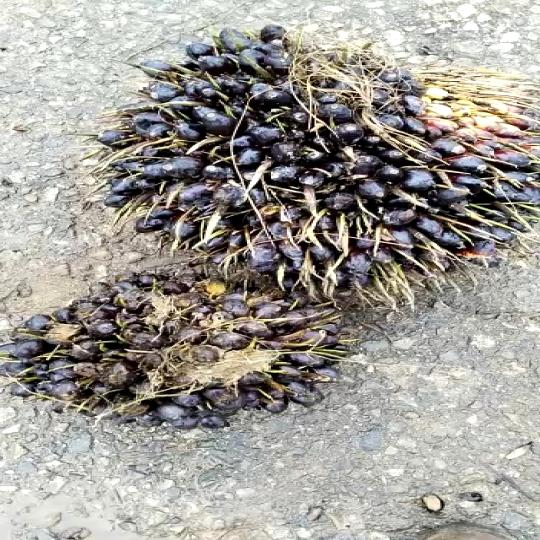mentah: (127, 21, 540, 313), (0, 264, 379, 418)
